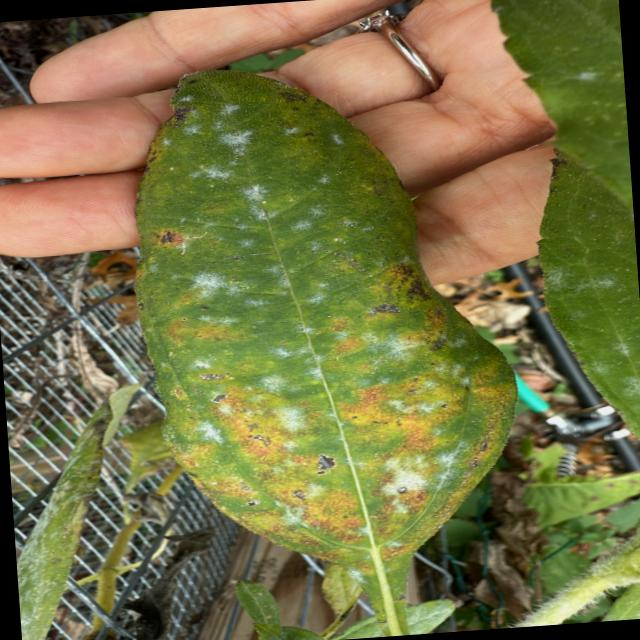powdery_mildew: (135, 70, 516, 636)
